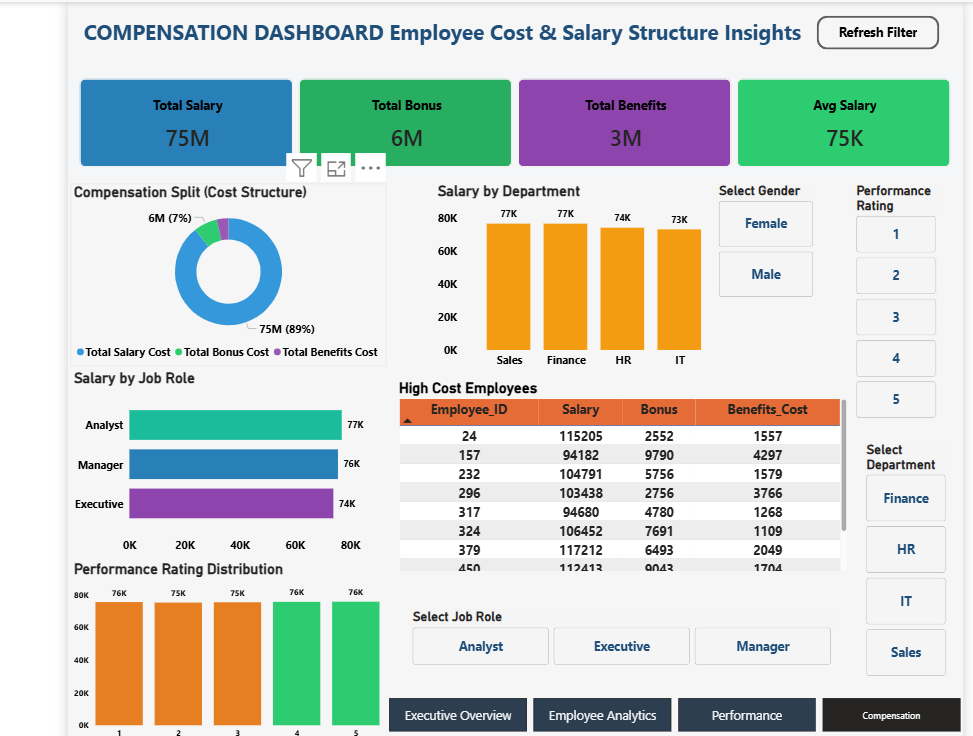

The dashboard page shown, as its layout file describes it:
{"tool":"powerbi","page":{"name":"Compensation","canvas":[1320,1100],"ordinal":3},"visuals":[{"type":"shape","box":[9.2,0,1310.5,86.6],"z":0},{"type":"cardVisual","fields":{"Data":["HR_Compensation.Total Salary Cost","HR_Compensation.Total Bonus Cost","HR_Compensation.Total Benefits Cost","HR_Employees.Average Salary"]},"box":[0,95.8,1319.7,165.9],"z":1000},{"type":"donutChart","title":"Compensation Split (Cost Structure)","fields":{"Y":["HR_Compensation.Total Salary Cost","HR_Compensation.Total Bonus Cost","HR_Compensation.Total Benefits Cost"]},"box":[3.7,267.3,466.3,269.1],"z":2000},{"type":"clusteredColumnChart","title":"Salary by Department","fields":{"Category":["HR_Employees.Department"],"Y":["Avg(HR_Compensation.Salary)"]},"box":[540,265.4,435,283.8],"z":3000},{"type":"clusteredBarChart","title":"Salary by Job Role","fields":{"Category":["HR_Employees.Job_Role"],"Y":["Avg(HR_Compensation.Salary)"]},"box":[3.7,541.9,466.3,280.2],"z":4000},{"type":"columnChart","title":"Performance Rating Distribution","fields":{"Category":["HR_Performance.Performance_Rating"],"Y":["HR_Compensation.Avg Salary by Rating"]},"box":[3.7,823.9,460.8,272.8],"z":5000},{"type":"actionButton","box":[1104.1,20.3,180.6,49.8],"z":6000},{"type":"pageNavigator","box":[473.7,1026.6,842.3,49.8],"z":7000},{"type":"advancedSlicerVisual","fields":{"Values":["HR_Employees.Job_Role"]},"box":[503.2,895.8,628.5,86.6],"z":8000},{"type":"advancedSlicerVisual","fields":{"Values":["HR_Employees.Gender"]},"box":[954.8,267.3,149.3,173.3],"z":9000},{"type":"tableEx","title":"High Cost Employees","fields":{"Values":["HR_Employees.Employee_ID","HR_Compensation.Salary","HR_Compensation.Bonus","HR_Compensation.Benefits_Cost"]},"box":[482.9,556.6,670.9,287.5],"z":10000},{"type":"advancedSlicerVisual","fields":{"Values":["HR_Performance.Performance_Rating"]},"box":[1157.5,267.3,127.2,353.9],"z":11000},{"type":"advancedSlicerVisual","fields":{"Values":["HR_Employees.Department"]},"box":[1172.3,648.8,127.2,353.9],"z":12000}]}

Visuals, with their boxes on the page's 1320x1100 design canvas (x1, y1, x2, y2). These are canvas units, not pixel positions in the 973x736 screenshot, which may show the page scaled, cropped or inside an application window:
shape: 9/0/1320/87
cardVisual - HR_Compensation.Total Salary Cost x HR_Compensation.Total Bonus Cost: 0/96/1320/262
"Compensation Split (Cost Structure)" donutChart: 4/267/470/536
"Salary by Department" clusteredColumnChart: 540/265/975/549
"Salary by Job Role" clusteredBarChart: 4/542/470/822
"Performance Rating Distribution" columnChart: 4/824/464/1097
actionButton: 1104/20/1285/70
pageNavigator: 474/1027/1316/1076
advancedSlicerVisual - HR_Employees.Job_Role: 503/896/1132/982
advancedSlicerVisual - HR_Employees.Gender: 955/267/1104/441
"High Cost Employees" tableEx: 483/557/1154/844
advancedSlicerVisual - HR_Performance.Performance_Rating: 1158/267/1285/621
advancedSlicerVisual - HR_Employees.Department: 1172/649/1300/1003
